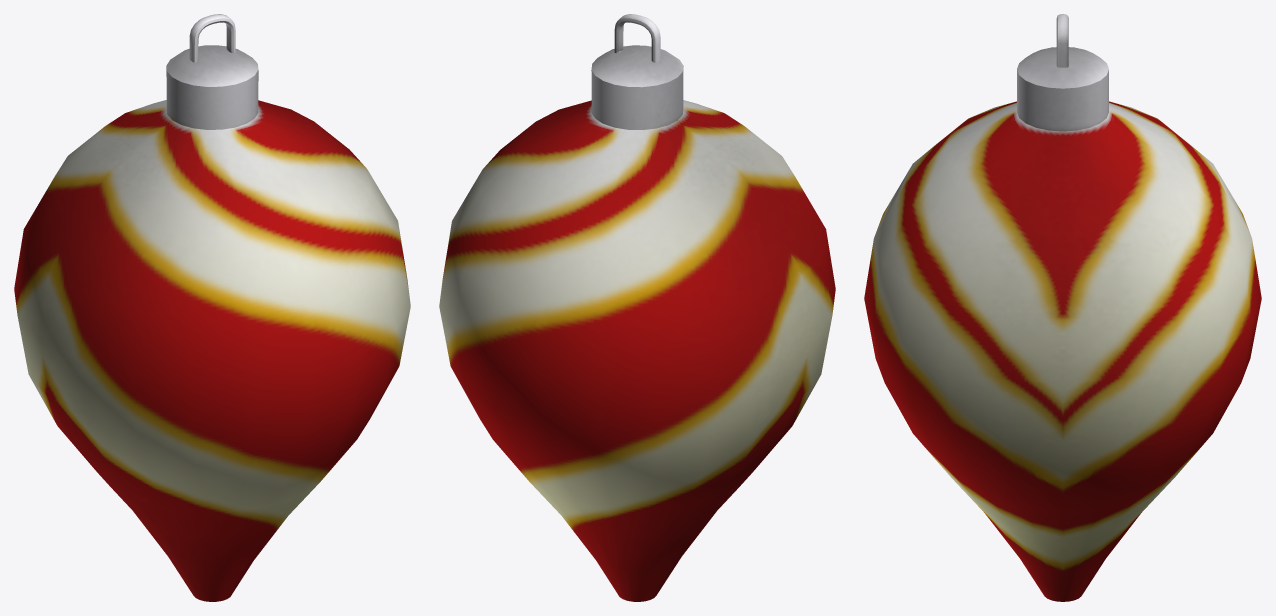
3 views of the same model, side by side, from view 1: azimuth 30°, elevation 25°; view 2: azimuth 150°, elevation 25°; view 3: azimuth 270°, elevation 25° (orthographic).
Visible parts, largest first — view 1: V5_Christmas Collection8_V5_Christmas Collection_0; view 2: V5_Christmas Collection8_V5_Christmas Collection_0; view 3: V5_Christmas Collection8_V5_Christmas Collection_0.
Boxes of the visible parts, x1,y1,x2,y2 form: V5_Christmas Collection8_V5_Christmas Collection_0: (14, 14, 410, 601); V5_Christmas Collection8_V5_Christmas Collection_0: (439, 14, 835, 601); V5_Christmas Collection8_V5_Christmas Collection_0: (864, 14, 1261, 601).
Size of the model in its own units: 28.31 by 45.27 by 28.31.
Materials: 1 (1 with a texture image).
